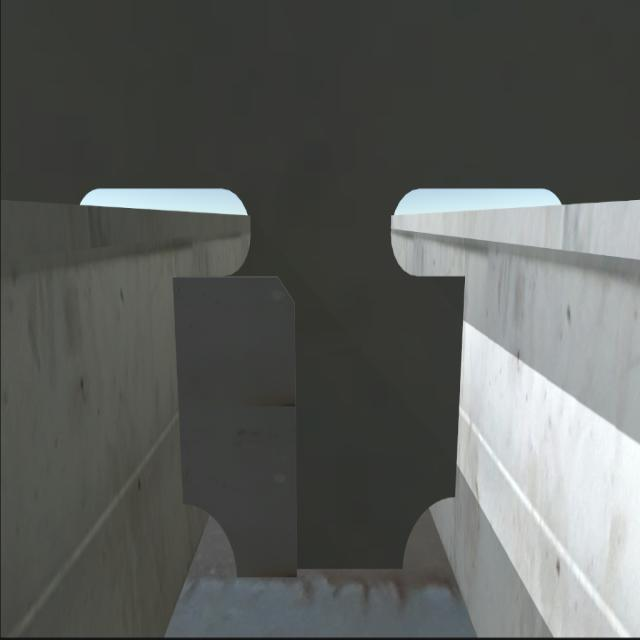fillet_hole: (403, 494, 460, 570), (186, 500, 238, 577)
fillet_yong_jeop_jang: (225, 558, 416, 590)
longi_yong_jeop_jang: (167, 271, 192, 507), (450, 270, 471, 496)
plate_CP03: (171, 276, 298, 582)
